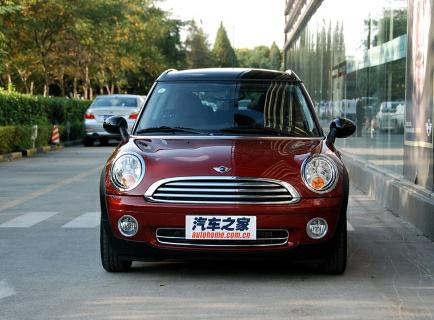MINI CLUBMAN: (92, 71, 361, 286)
